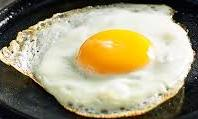fried egg: (12, 19, 185, 103)
